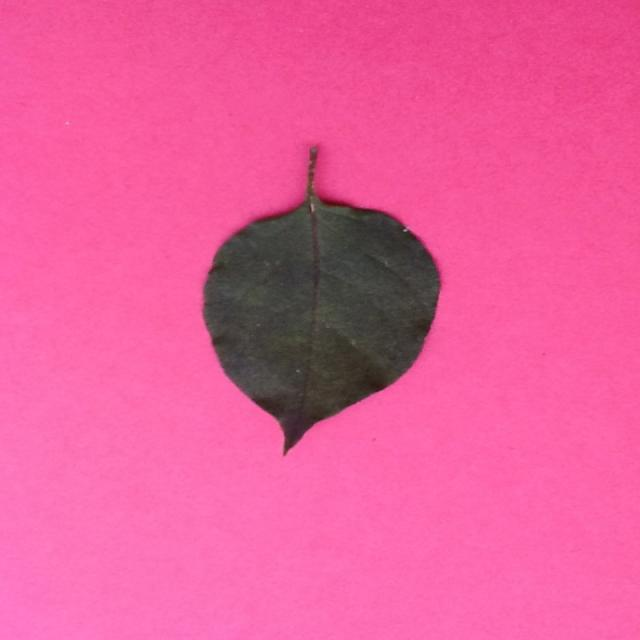foliage: (203, 148, 441, 456)
